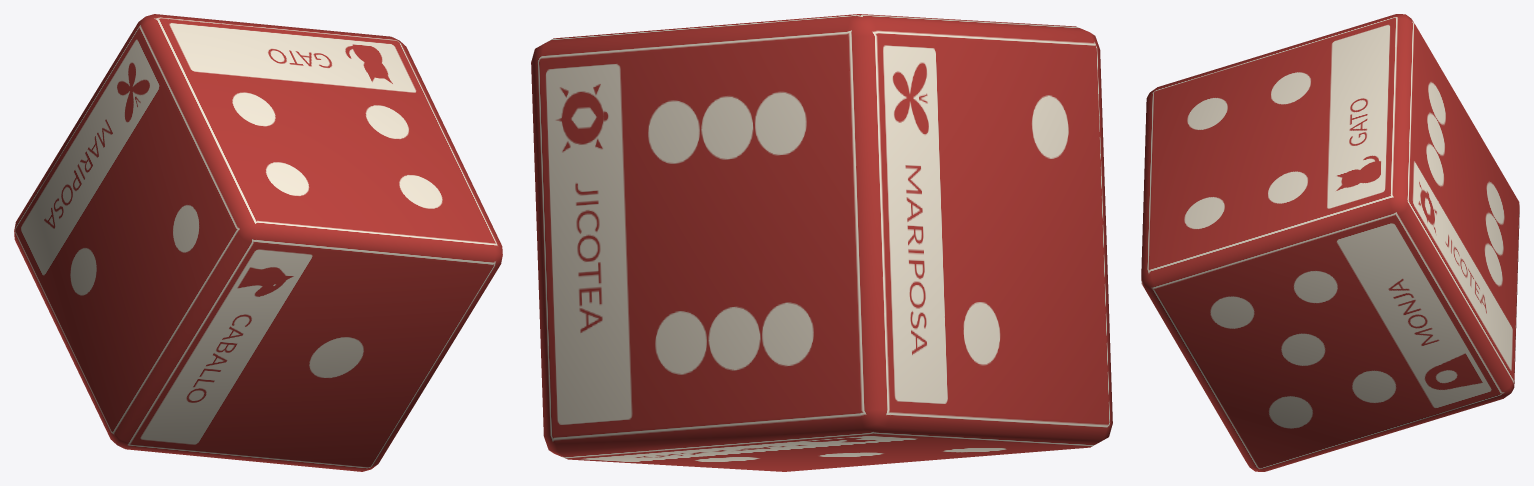
File: c-charada-die.glb
3 views of the same model, side by side, from view 1: azimuth 30°, elevation 25°; view 2: azimuth 150°, elevation 25°; view 3: azimuth 270°, elevation 25° (orthographic). The views are drawn at different scales.
Visible parts, largest first — view 1: Die body; view 2: Die body; view 3: Die body.
Part boxes in pixels (x1,y1,x2,y2): Die body: (14, 14, 502, 471); Die body: (531, 14, 1112, 471); Die body: (1141, 14, 1519, 471).
Size of the model in its own units: 0.021 by 0.0237 by 0.0206.
1 material, 1 textured.
